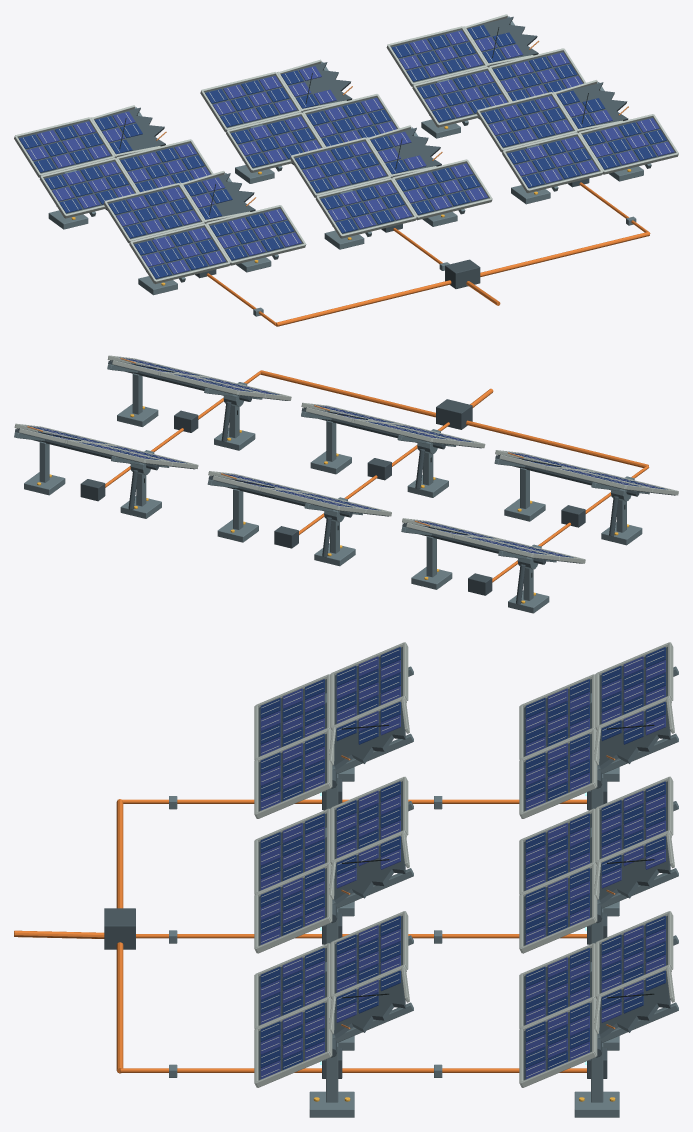
The model's file is solar_array_d1.glb.
The picture shows the model from 3 angles, top to bottom: view 1: azimuth 30°, elevation 25°; view 2: azimuth 150°, elevation 25°; view 3: azimuth 270°, elevation 25°; orthographic projection. The views are drawn at different scales.
Visible parts, largest first — view 1: COLLECTION_CABLE_TRUNK, JAGGED_PV_BACKING_001, JAGGED_PV_BACKING_004, JAGGED_PV_BACKING, JAGGED_PV_BACKING_002, JAGGED_PV_BACKING_005, JAGGED_PV_BACKING_003, ARRAY_COMBINER_BOX, PV_BACKING_005, PV_BACKING_004, PV_BACKING_002, PV_BACKING_007 (+14 smaller); view 2: COLLECTION_CABLE_TRUNK, ARRAY_COMBINER_BOX, RACK_ANCHOR_FOOTING_003, RACK_ANCHOR_FOOTING_005, RACK_ANCHOR_FOOTING_011, RACK_ANCHOR_FOOTING_001, RACK_ANCHOR_FOOTING_009, RACK_ANCHOR_FOOTING_007, RACK_ANCHOR_FOOTING_010, RACK_ANCHOR_FOOTING_004, RACK_ANCHOR_FOOTING_006, RACK_ANCHOR_FOOTING (+22 smaller); view 3: COLLECTION_CABLE_TRUNK, ARRAY_COLLECTION_CABLE_002, JAGGED_PV_BACKING_002, JAGGED_PV_BACKING_005, JAGGED_PV_BACKING_003, JAGGED_PV_BACKING, JAGGED_PV_BACKING_004, JAGGED_PV_BACKING_001, ARRAY_COLLECTION_CABLE, ARRAY_COLLECTION_CABLE_001, ARRAY_COMBINER_BOX, RACK_ANCHOR_FOOTING_005 (+1 smaller).
Boxes of the visible parts, <box> form: COLLECTION_CABLE_TRUNK: <box>276,231,649,326</box>; JAGGED_PV_BACKING_001: <box>370,127,441,173</box>; JAGGED_PV_BACKING_004: <box>280,62,352,107</box>; JAGGED_PV_BACKING: <box>184,173,255,218</box>; JAGGED_PV_BACKING_002: <box>558,82,628,127</box>; JAGGED_PV_BACKING_005: <box>467,16,538,61</box>; JAGGED_PV_BACKING_003: <box>94,107,165,152</box>; ARRAY_COMBINER_BOX: <box>445,259,480,288</box>; PV_BACKING_005: <box>395,162,488,215</box>; PV_BACKING_004: <box>294,140,387,193</box>; PV_BACKING_002: <box>209,208,302,261</box>; PV_BACKING_007: <box>480,95,573,148</box>; COLLECTION_CABLE_TRUNK: <box>260,370,648,467</box>; ARRAY_COMBINER_BOX: <box>436,399,472,429</box>; RACK_ANCHOR_FOOTING_003: <box>310,451,351,474</box>; RACK_ANCHOR_FOOTING_005: <box>117,404,158,426</box>; RACK_ANCHOR_FOOTING_011: <box>24,472,65,495</box>; RACK_ANCHOR_FOOTING_001: <box>504,498,545,521</box>; RACK_ANCHOR_FOOTING_009: <box>217,519,258,542</box>; RACK_ANCHOR_FOOTING_007: <box>411,567,452,589</box>; RACK_ANCHOR_FOOTING_010: <box>120,496,161,518</box>; RACK_ANCHOR_FOOTING_004: <box>214,428,255,450</box>; RACK_ANCHOR_FOOTING_006: <box>508,590,549,613</box>; RACK_ANCHOR_FOOTING: <box>601,522,642,545</box>; COLLECTION_CABLE_TRUNK: <box>116,799,123,1073</box>; ARRAY_COLLECTION_CABLE_002: <box>120,1068,586,1072</box>; JAGGED_PV_BACKING_002: <box>334,971,405,1038</box>; JAGGED_PV_BACKING_005: <box>599,971,670,1038</box>; JAGGED_PV_BACKING_003: <box>599,702,670,769</box>; JAGGED_PV_BACKING: <box>334,702,405,769</box>; JAGGED_PV_BACKING_004: <box>599,836,670,904</box>; JAGGED_PV_BACKING_001: <box>334,836,405,904</box>; ARRAY_COLLECTION_CABLE: <box>122,799,586,803</box>; ARRAY_COLLECTION_CABLE_001: <box>136,934,586,938</box>; ARRAY_COMBINER_BOX: <box>104,908,135,949</box>; RACK_ANCHOR_FOOTING_005: <box>309,1091,354,1117</box>.
Size of the model in its own units: 16.88 by 2.31 by 12.55.
